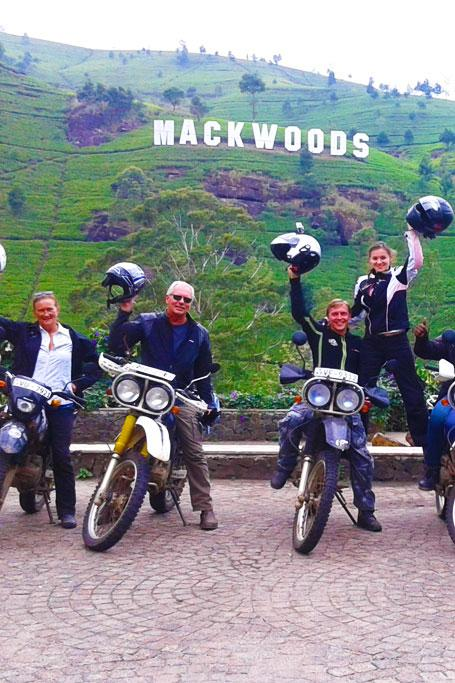motorbike: (81, 343, 222, 551), (277, 329, 394, 555), (1, 339, 87, 519)
